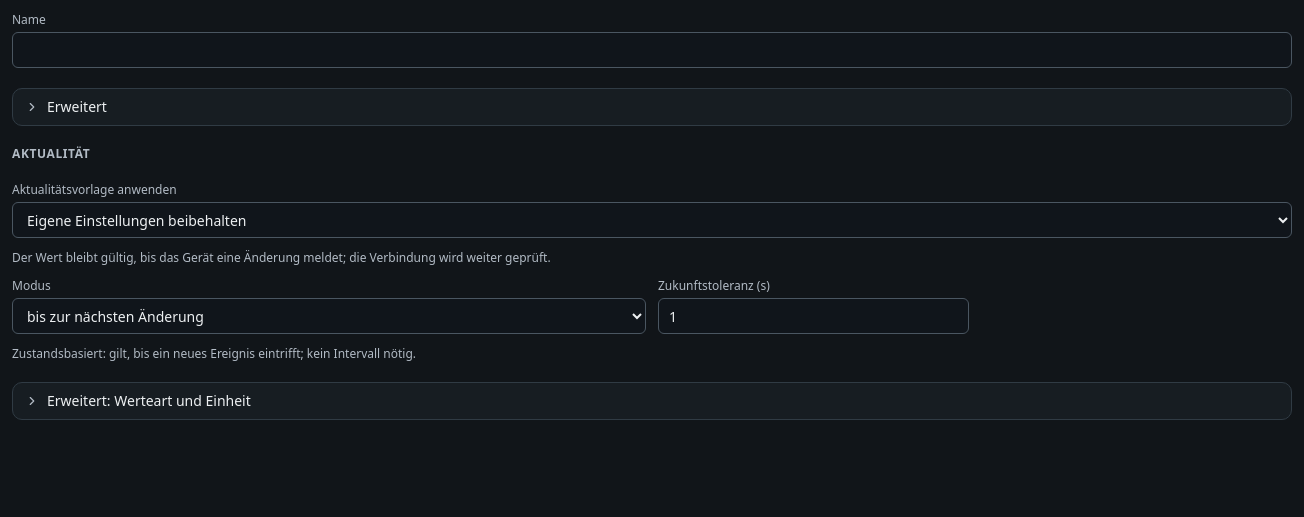
Test: registry objects are fully editable without JSON › source freshness shows exactly the fields the schema requires for the mode
Select "Erreichbarkeitsquelle" in the dropdown labelled "Modus" at point(329, 316), box [12,298,646,334]
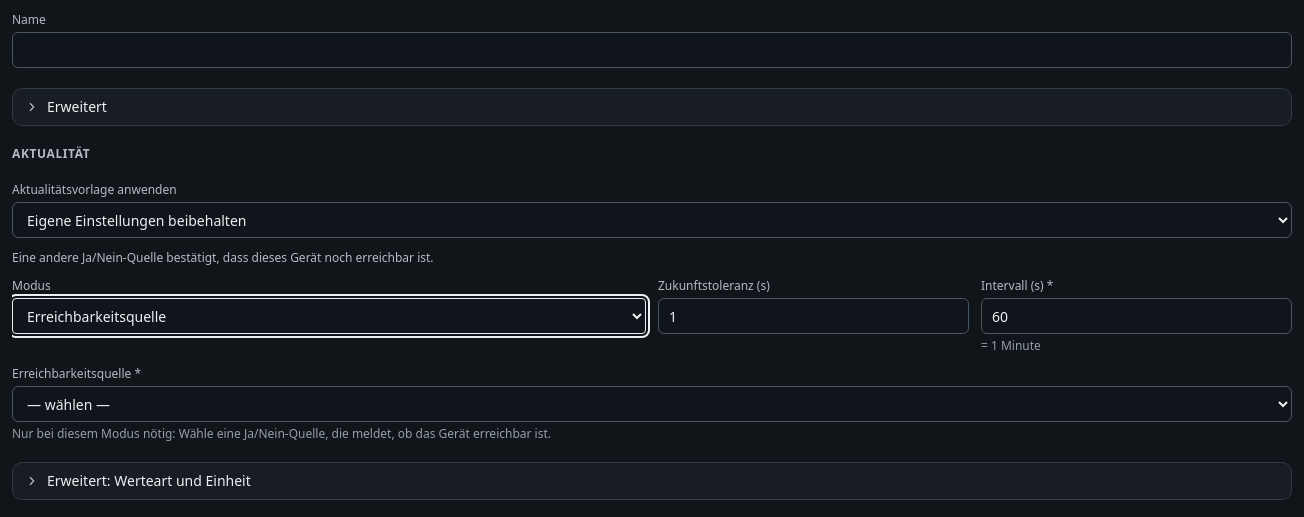
Expected: the number field labelled "Intervall (s) *" is shown, [981,298,1292,334]
Expected: the dropdown labelled "Erreichbarkeitsquelle *" is shown, [12,386,1292,422]
